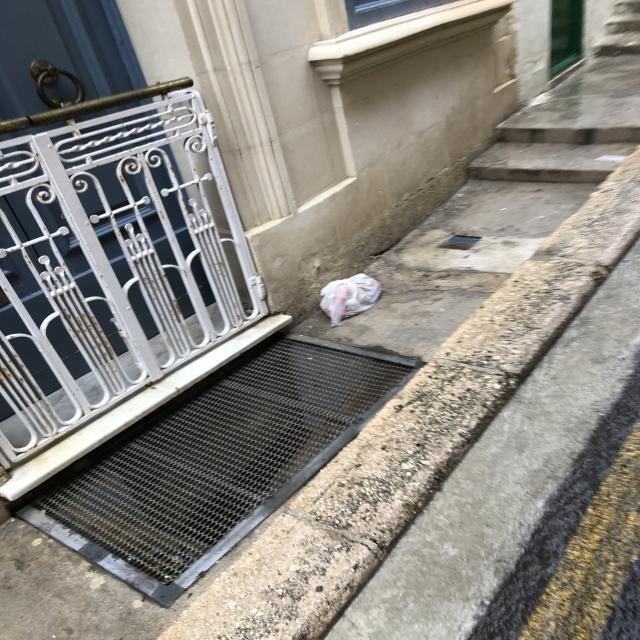Organic Waste -White Bag-: (318, 275, 381, 329)
